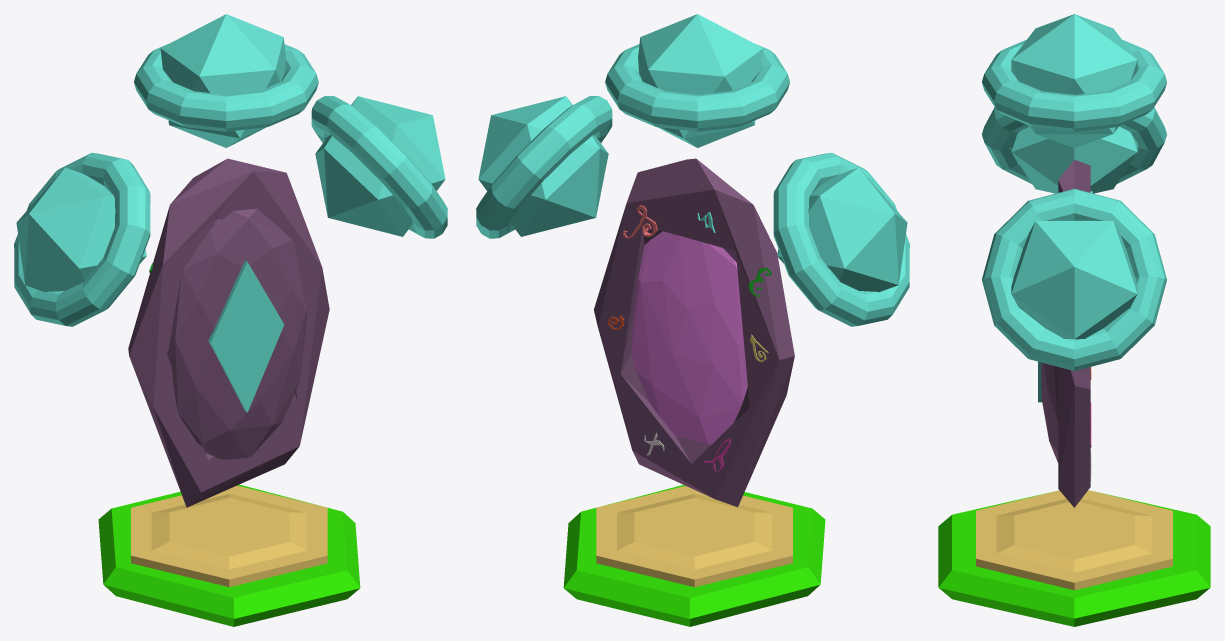
File: Portal 1.fbx
3 renders of one model, left to right at view 1: azimuth 30°, elevation 25°; view 2: azimuth 150°, elevation 25°; view 3: azimuth 270°, elevation 25°, orthographic.
Parts seen in each view (by area): view 1: Base, Torus.001, Sphere, Torus.004, Icosphere.002, Icosphere.001, Icosphere, Torus.002, Torus.003, Cube.001; view 2: Torus.001, Base, Sphere.001, Torus.004, Icosphere.002, Icosphere.001, Icosphere, Torus.002, Torus.003; view 3: Base, Torus.003, Icosphere.001, Icosphere, Torus.002, Torus.001, Icosphere.002, Torus.004, Sphere.
Part boxes in pixels (x1,y1,x2,y2): Base: [98, 484, 360, 626]; Torus.001: [128, 158, 329, 507]; Sphere: [167, 208, 306, 459]; Torus.004: [14, 152, 150, 326]; Icosphere.002: [16, 167, 146, 292]; Icosphere.001: [315, 96, 445, 236]; Icosphere: [160, 14, 285, 147]; Torus.002: [134, 44, 318, 131]; Torus.003: [311, 96, 447, 238]; Cube.001: [208, 260, 284, 412]; Torus.001: [594, 158, 794, 507]; Base: [563, 485, 825, 626]; Sphere.001: [631, 231, 747, 444]; Torus.004: [773, 152, 909, 326]; Icosphere.002: [777, 167, 907, 292]; Icosphere.001: [478, 96, 608, 236]; Icosphere: [638, 14, 763, 147]; Torus.002: [605, 44, 789, 131]; Torus.003: [476, 96, 612, 238]; Base: [938, 490, 1210, 626]; Torus.003: [982, 188, 1166, 370]; Icosphere.001: [1011, 220, 1137, 339]; Icosphere: [1011, 14, 1137, 148]; Torus.002: [982, 40, 1166, 131]; Torus.001: [1058, 159, 1090, 507]; Icosphere.002: [1011, 126, 1137, 193]; Torus.004: [982, 107, 1166, 183]; Sphere: [1041, 362, 1058, 462].
Bounding box in the file's own units: 642 × 827 × 367.
